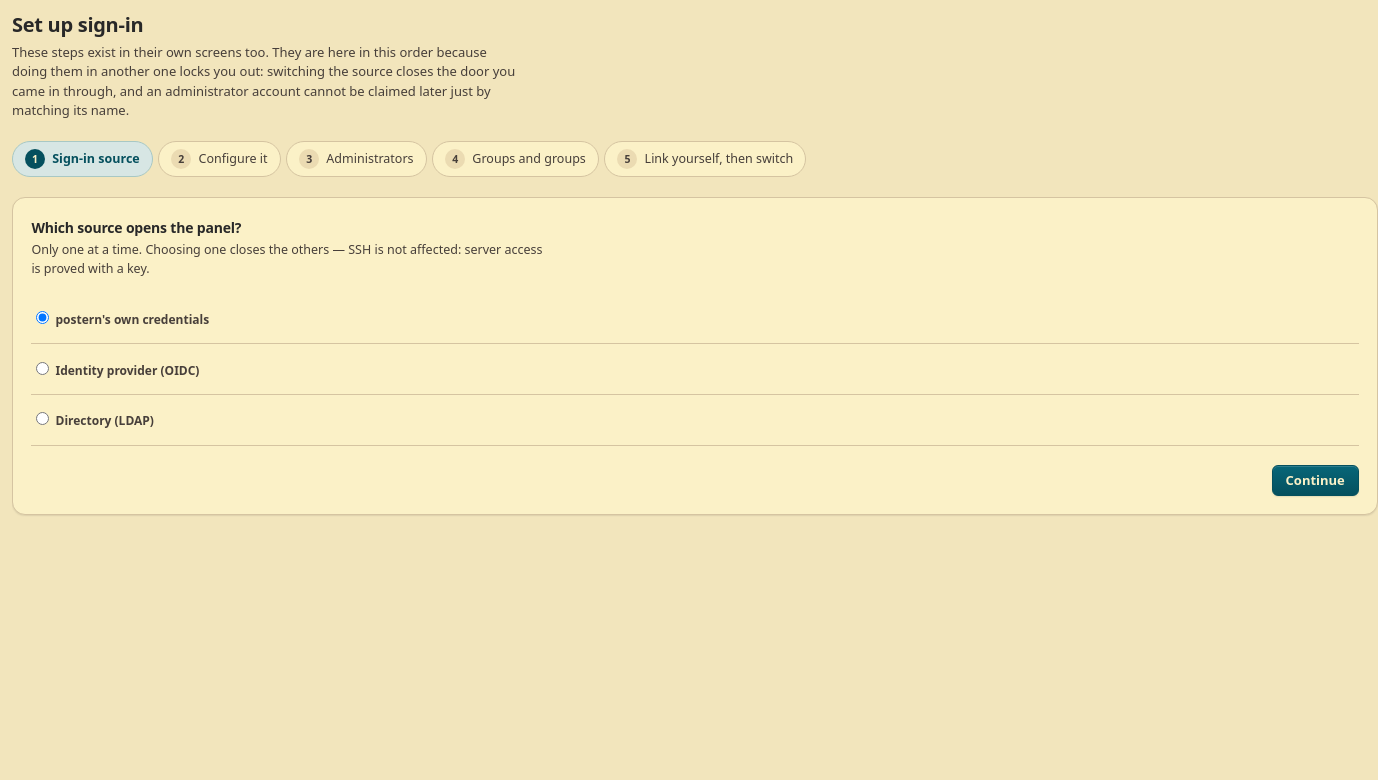
Test: kurulum sihirbazi › ldap secilince once kimlik baglanmali
Expected: the heading "Which source opens the panel?" is shown, left=31, top=218, right=241, bottom=237
Click the radio button labelled "Directory (LDAP)" at [43, 419], box left=36, top=412, right=49, bottom=425
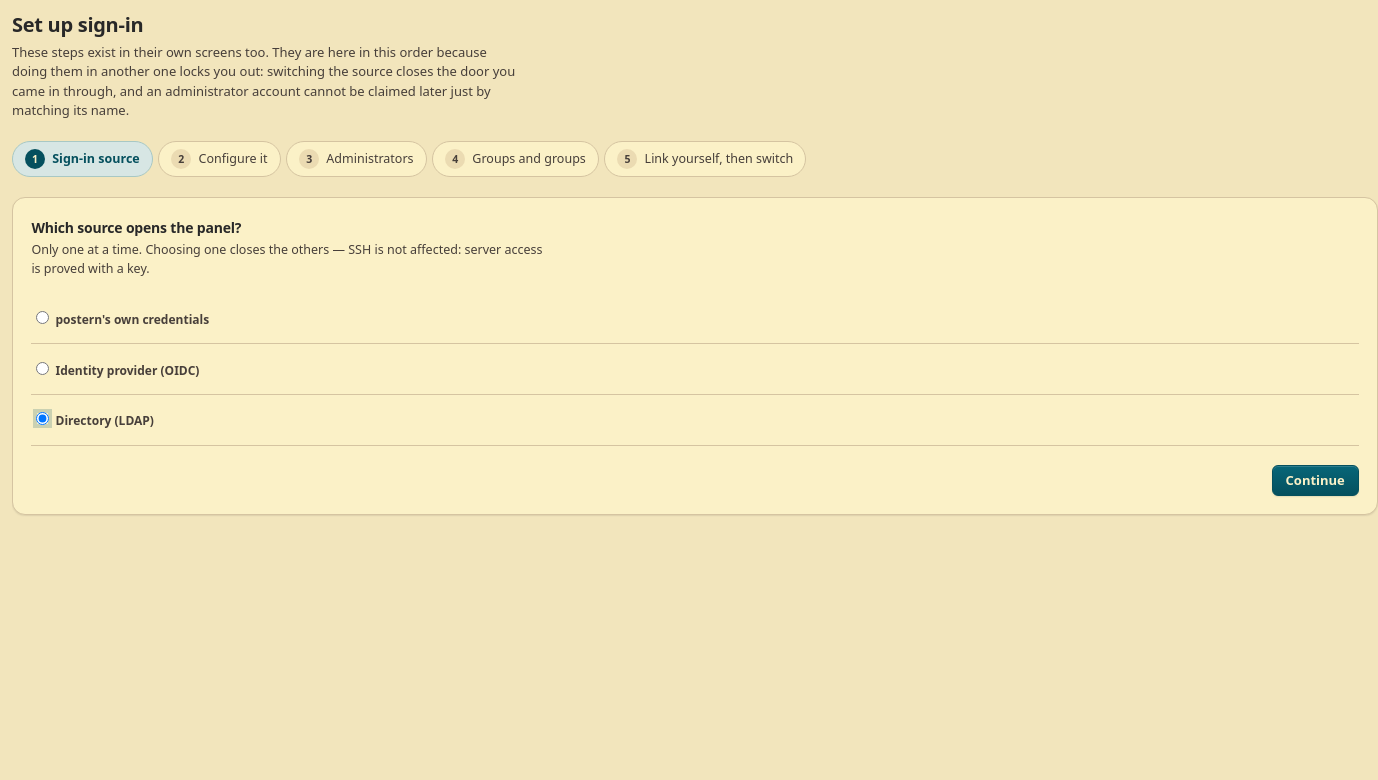
Click the button "5 Link yourself, then switch" at [705, 159], box left=604, top=141, right=806, bottom=177
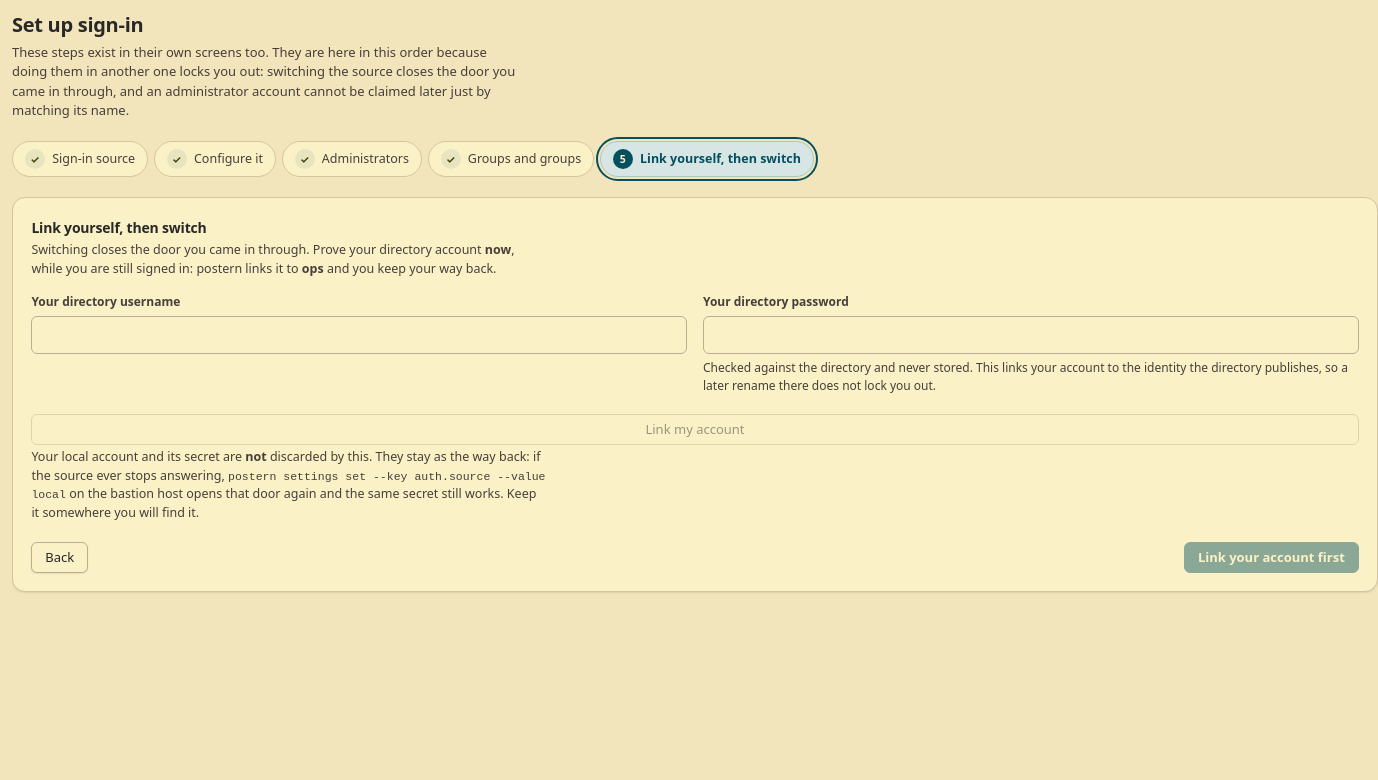
Now the button with aria-label "switch the panel to this source" is disabled, box left=1184, top=542, right=1359, bottom=573
